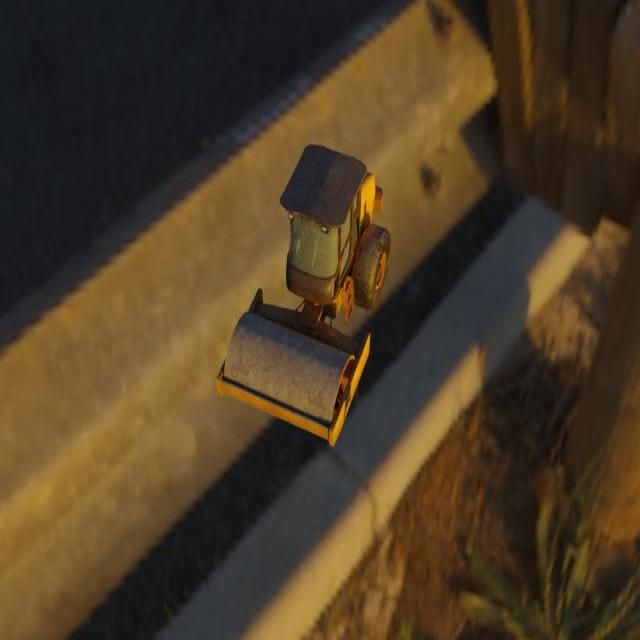Roller: (215, 142, 391, 446)
